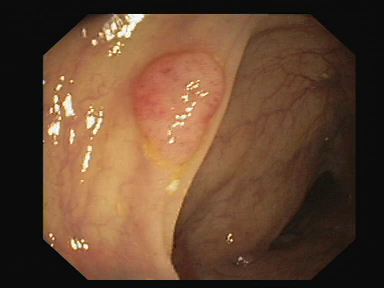polyp: (130, 34, 238, 167)
